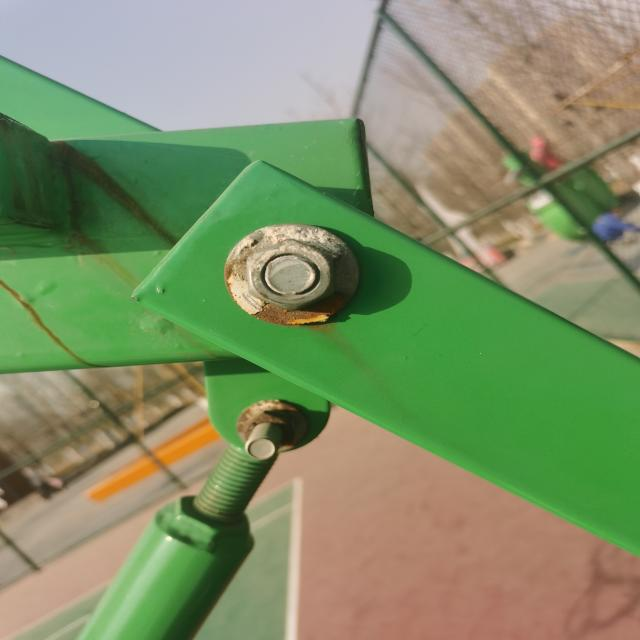blur bolt: (238, 408, 298, 452)
bolt nut: (241, 236, 337, 314)
